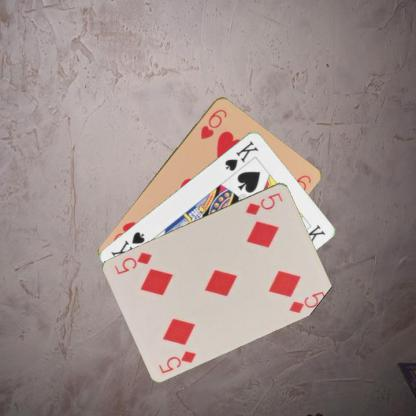5d: (156, 348, 198, 375), (243, 190, 284, 216)
6h: (198, 106, 228, 140)
Ks: (222, 138, 260, 172)
